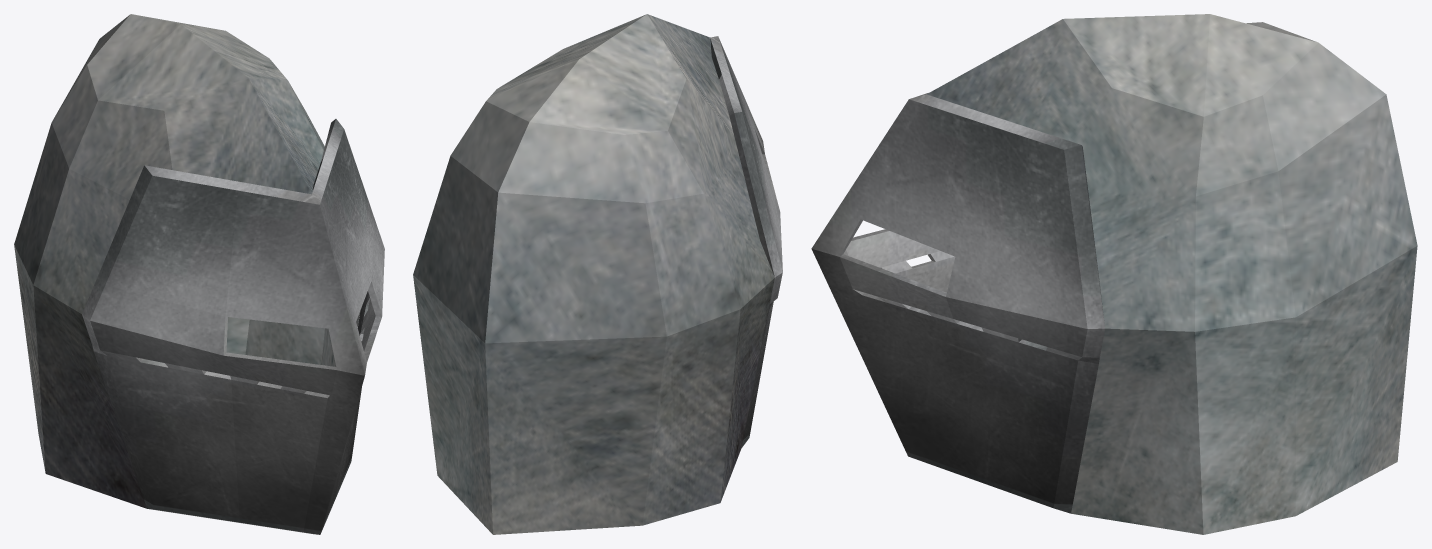
Rendered from Helm.fbx.
3 views of the same model, side by side, from view 1: azimuth 30°, elevation 25°; view 2: azimuth 150°, elevation 25°; view 3: azimuth 270°, elevation 25° (orthographic). The views are drawn at different scales.
Visible parts, largest first — view 1: Cube.001, Cube; view 2: Cube, Cube.001; view 3: Cube, Cube.001.
Part boxes in pixels (bbox=[...]): Cube.001: bbox=[82, 119, 384, 534]; Cube: bbox=[14, 14, 360, 508]; Cube: bbox=[413, 14, 774, 534]; Cube.001: bbox=[710, 36, 782, 448]; Cube: bbox=[927, 14, 1417, 534]; Cube.001: bbox=[811, 93, 1104, 513].
Bounding box in the file's own units: 165 × 212 × 259.
